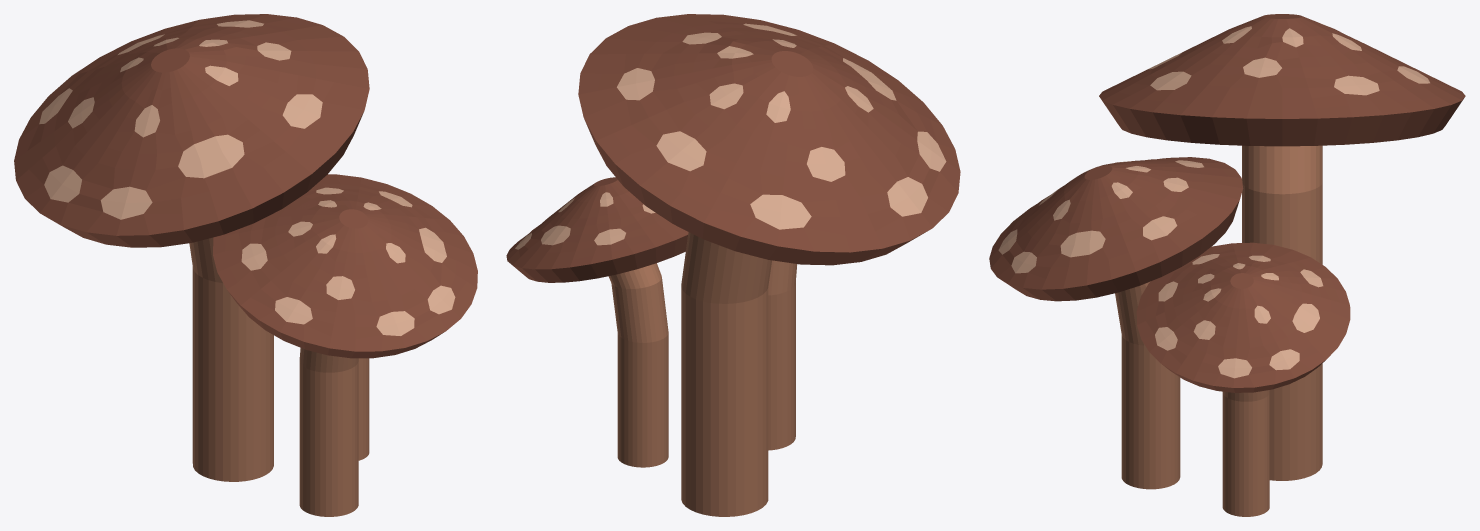
The model's file is mushroom_4_garden.fbx.
The picture shows the model from 3 angles, left to right: view 1: azimuth 30°, elevation 25°; view 2: azimuth 150°, elevation 25°; view 3: azimuth 270°, elevation 25°; orthographic projection. The views are drawn at different scales.
Visible parts, largest first — view 1: mushroom_4_garden, Cylinder.052, Cylinder.001; view 2: mushroom_4_garden, Cylinder.052, Cylinder.001; view 3: mushroom_4_garden, Cylinder.052, Cylinder.001.
Part boxes in pixels (left/top/right/bottom): mushroom_4_garden: left=14, top=14, right=477, bottom=358; Cylinder.052: left=189, top=237, right=369, bottom=516; Cylinder.001: left=39, top=20, right=455, bottom=335; mushroom_4_garden: left=506, top=14, right=960, bottom=282; Cylinder.052: left=608, top=232, right=797, bottom=516; Cylinder.001: left=515, top=23, right=946, bottom=249; mushroom_4_garden: left=989, top=14, right=1465, bottom=392; Cylinder.052: left=1115, top=145, right=1322, bottom=516; Cylinder.001: left=998, top=23, right=1429, bottom=378.
Size of the model in its own units: 41.85 by 42.45 by 43.38.
